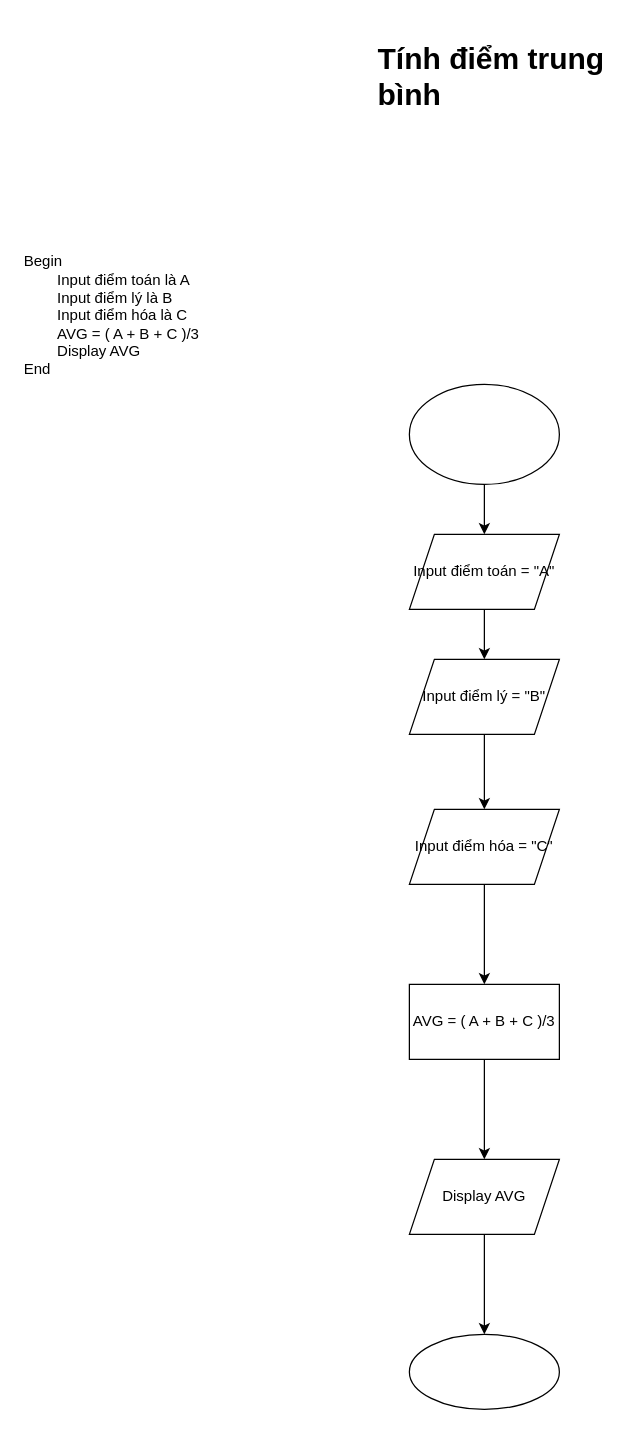
Some shapes in this 630 by 1431 pixel diagram are drawn without their labels. Each missing label, with the centre of its shape:
"Begin" goes at (x=483, y=433).
"End" goes at (x=483, y=1371).
